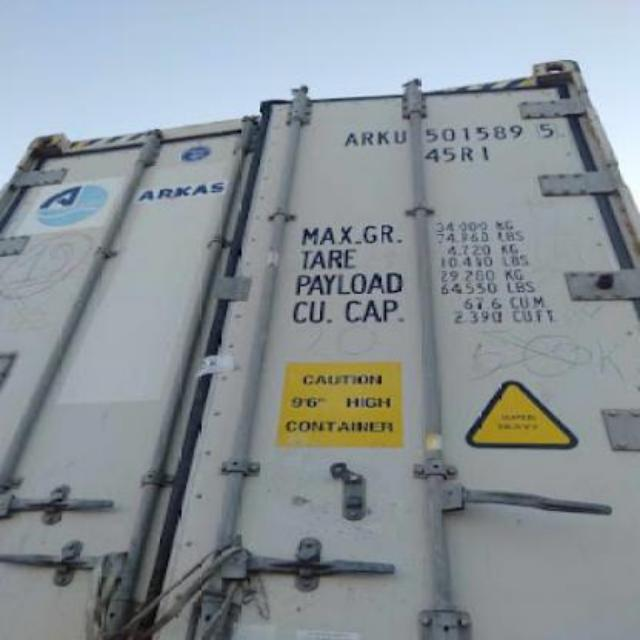0: (442, 126, 458, 142)
1: (462, 126, 470, 140)
5: (424, 126, 440, 144), (474, 124, 490, 142), (538, 124, 554, 138)
8: (494, 124, 506, 142)
9: (508, 123, 526, 139)
A: (342, 132, 360, 148)
K: (376, 130, 392, 146)
R: (362, 130, 376, 146)
U: (392, 129, 408, 147)
